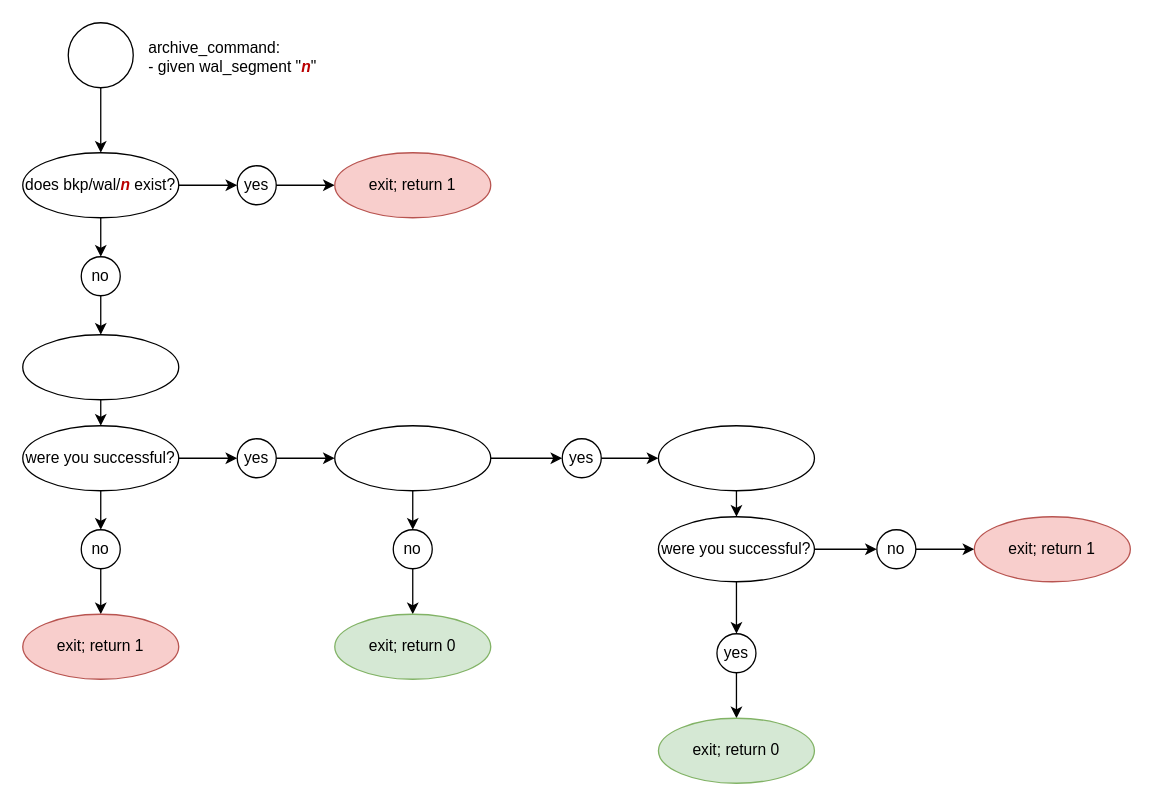
The diagram is 1153 pixels wide and 806 high, and some of its shapes have lost their labels. The shapes that lost their labels are listed below. From the top down, each one's box as (x1, y1, x2, y2) in pixels, then its label:
(67, 21, 133, 88): f(n)
(21, 333, 179, 400): copy n to bkp/wal/ n
(333, 424, 491, 491): Does active.tar exist?
(657, 424, 814, 491): append n to the tarball
